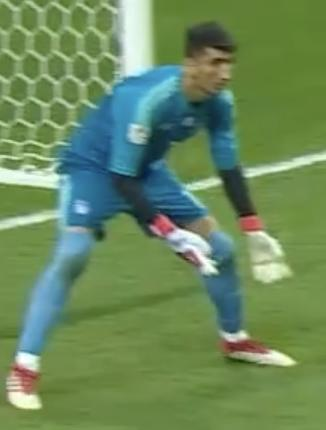goalkeeper: (5, 10, 326, 430)
